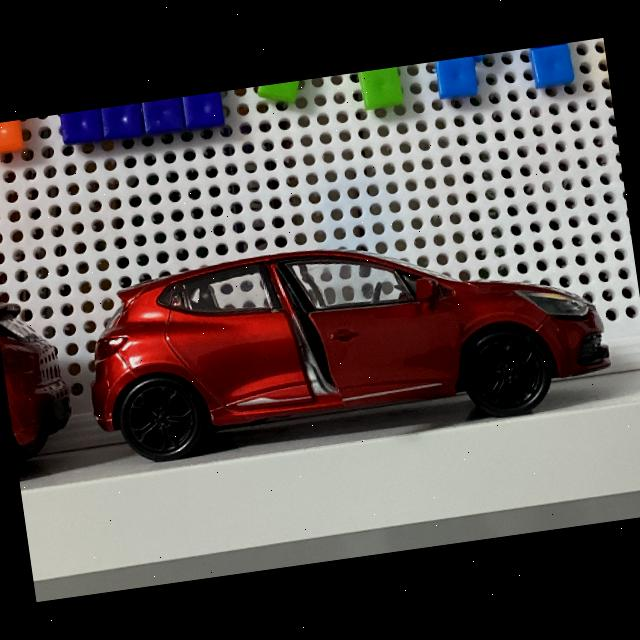Dogru_Jant: (125, 382, 198, 456), (471, 335, 544, 408)
